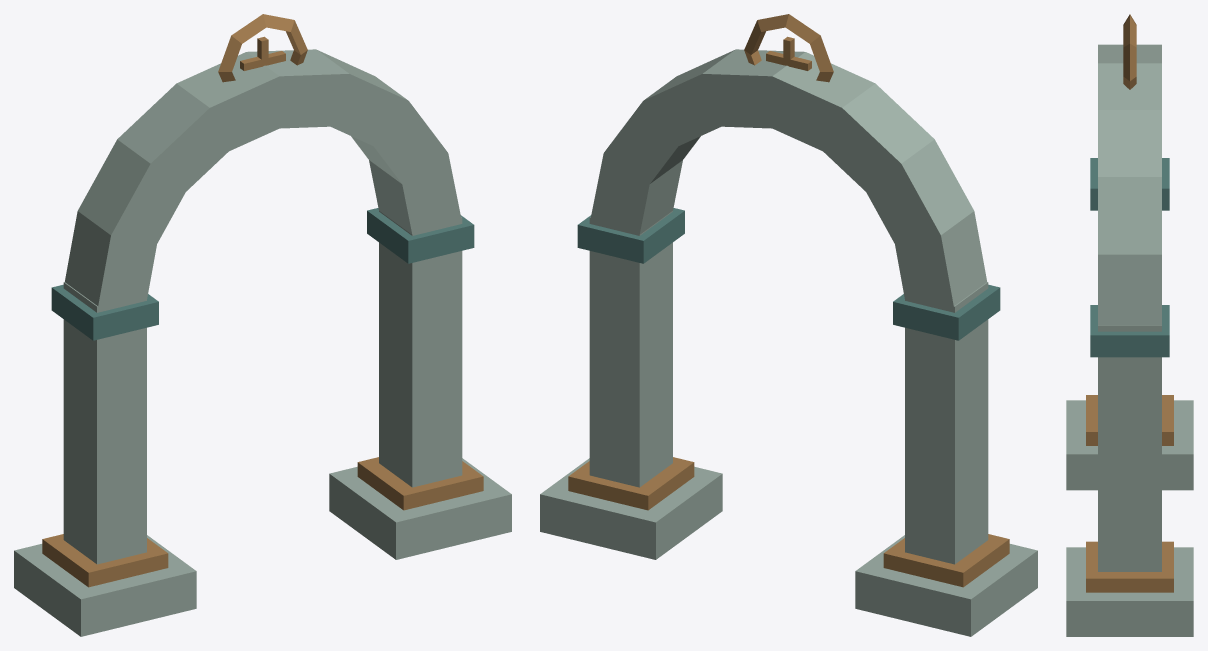
The model's file is observatory.glb.
3 views of the same model, side by side, from view 1: azimuth 30°, elevation 25°; view 2: azimuth 150°, elevation 25°; view 3: azimuth 270°, elevation 25° (orthographic). The views are drawn at different scales.
Parts seen in each view (by area): view 1: TiltTrail_Observatory_Frame; view 2: TiltTrail_Observatory_Frame; view 3: TiltTrail_Observatory_Frame.
Boxes of the visible parts, box(x1,y1,x2,y2) form: TiltTrail_Observatory_Frame: box(14, 14, 511, 636); TiltTrail_Observatory_Frame: box(540, 14, 1037, 636); TiltTrail_Observatory_Frame: box(1066, 14, 1193, 636).
Bounding box in the file's own units: 2.16 × 2.62 × 0.58.
